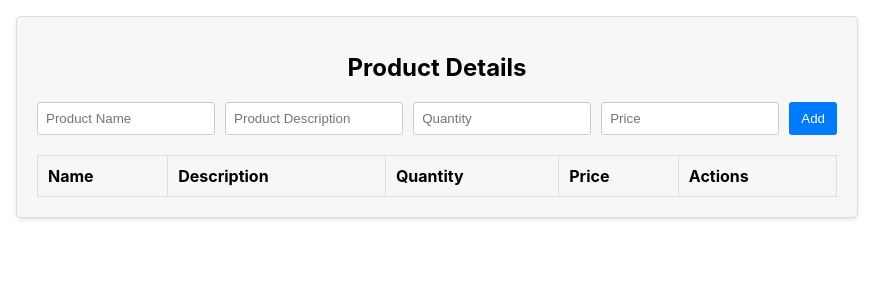
Test: App › displaying the error message for the empty input fields › displays_an_error_message_when_adding_a_product_with_an_empty_product_description
Type "New Product" into the field with placeholder "Product Name".
click(126, 119); type("New Product")  # box x1=37 y1=102 x2=215 y2=135
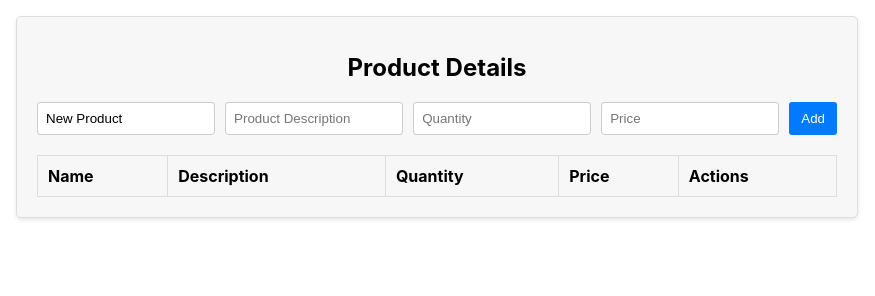
Type "10" into the number field with placeholder "Quantity".
click(502, 119); type("10")  # box x1=413 y1=102 x2=591 y2=135
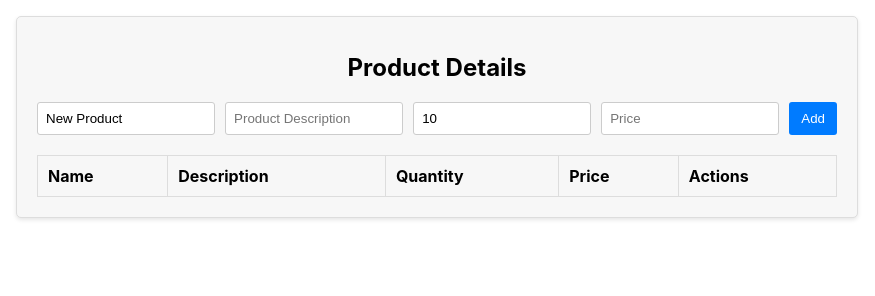
Type "19.99" into the number field with placeholder "Price".
click(690, 119); type("19.99")  # box x1=601 y1=102 x2=779 y2=135
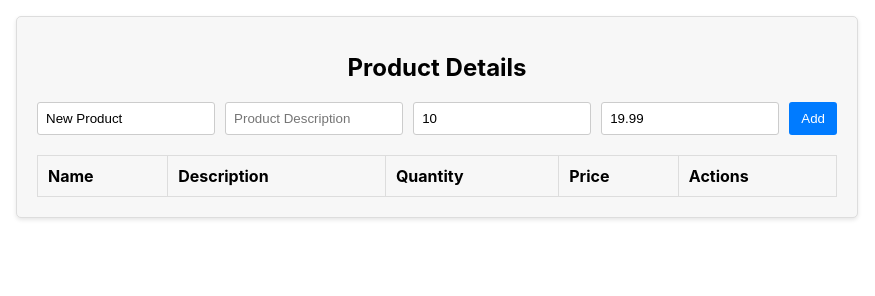
Click the button "Add".
click(813, 119)  # box x1=789 y1=102 x2=837 y2=135
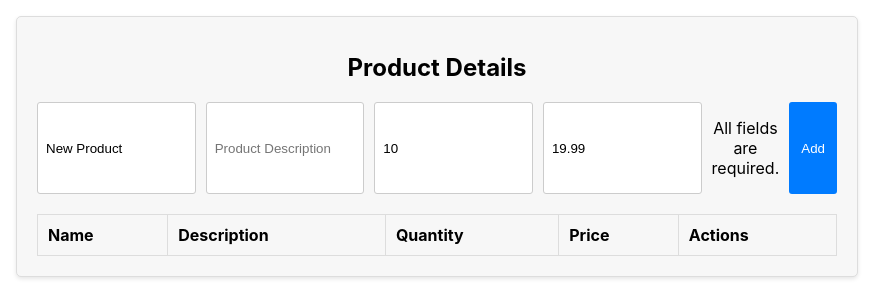
Check: the text "All fields are required." is shown, box x1=712 y1=118 x2=779 y2=178
